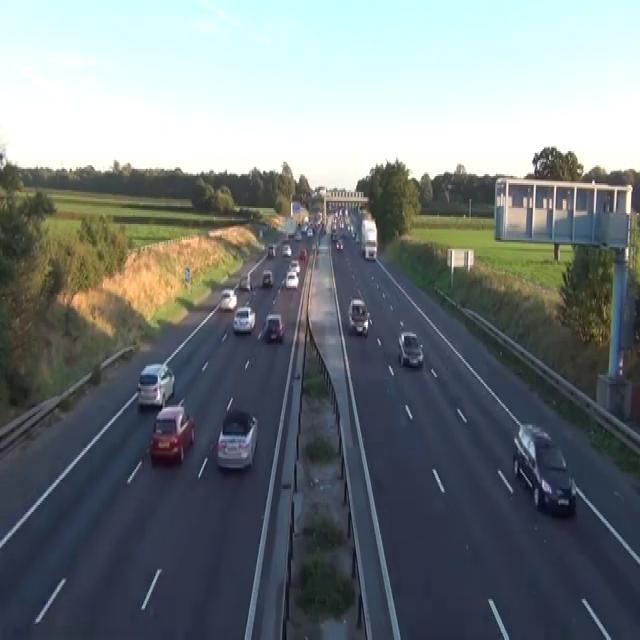Car: (512, 422, 576, 516), (149, 398, 194, 464), (216, 407, 258, 469), (137, 363, 174, 409), (397, 331, 424, 368), (348, 297, 369, 336), (232, 306, 255, 332), (265, 313, 284, 341), (221, 288, 237, 309), (285, 270, 299, 290), (364, 240, 376, 260), (261, 268, 274, 286), (239, 272, 251, 290), (289, 260, 300, 276), (267, 244, 275, 258), (299, 247, 307, 261), (282, 244, 291, 256), (270, 217, 279, 229), (293, 229, 301, 240), (300, 222, 308, 233), (336, 238, 343, 249), (221, 329, 227, 341), (332, 231, 338, 242), (306, 228, 313, 236), (355, 233, 360, 243), (258, 228, 263, 238), (311, 242, 317, 250), (303, 215, 308, 224)
Truck: (360, 218, 377, 260)
